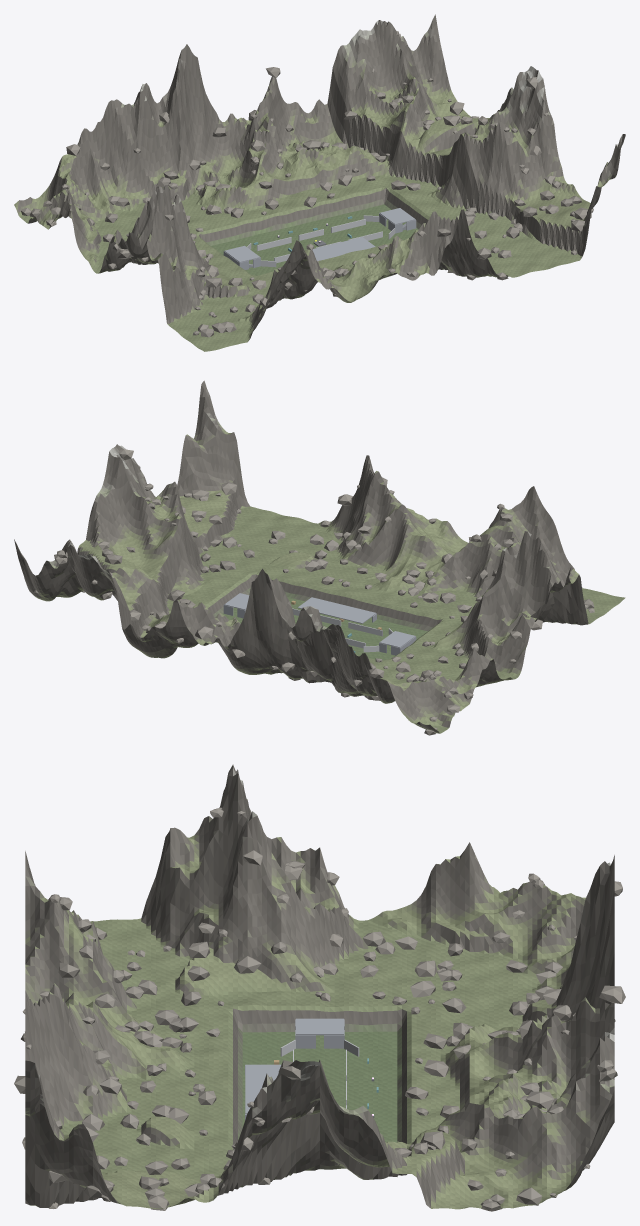
The model's file is twin_bastions.glb.
The picture shows the model from 3 angles, top to bottom: view 1: azimuth 30°, elevation 25°; view 2: azimuth 150°, elevation 25°; view 3: azimuth 270°, elevation 25°; orthographic projection. The views are drawn at different scales.
Parts seen in each view (by area): view 1: terrain, tunnel_roof; view 2: terrain, tunnel_roof; view 3: terrain, tunnel_roof, base_A_roof.
Part boxes in pixels (box(x1,y1,x2,y2)): terrain: box(14, 14, 625, 351); tunnel_roof: box(312, 237, 375, 260); terrain: box(14, 380, 625, 733); tunnel_roof: box(297, 597, 376, 623); terrain: box(25, 764, 614, 1209); tunnel_roof: box(245, 1064, 281, 1114); base_A_roof: box(296, 1018, 343, 1035).
Bounding box in the file's own units: 319 × 99.46 × 254.
